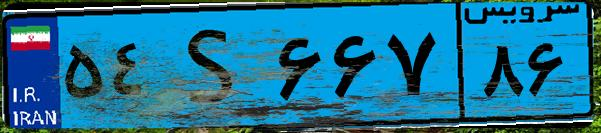4: (110, 28, 158, 98)
5: (57, 26, 110, 100)
6: (270, 28, 330, 110), (330, 28, 385, 110), (525, 38, 570, 115)
7: (385, 28, 445, 110)
8: (475, 38, 525, 113)
S: (158, 12, 270, 120)
